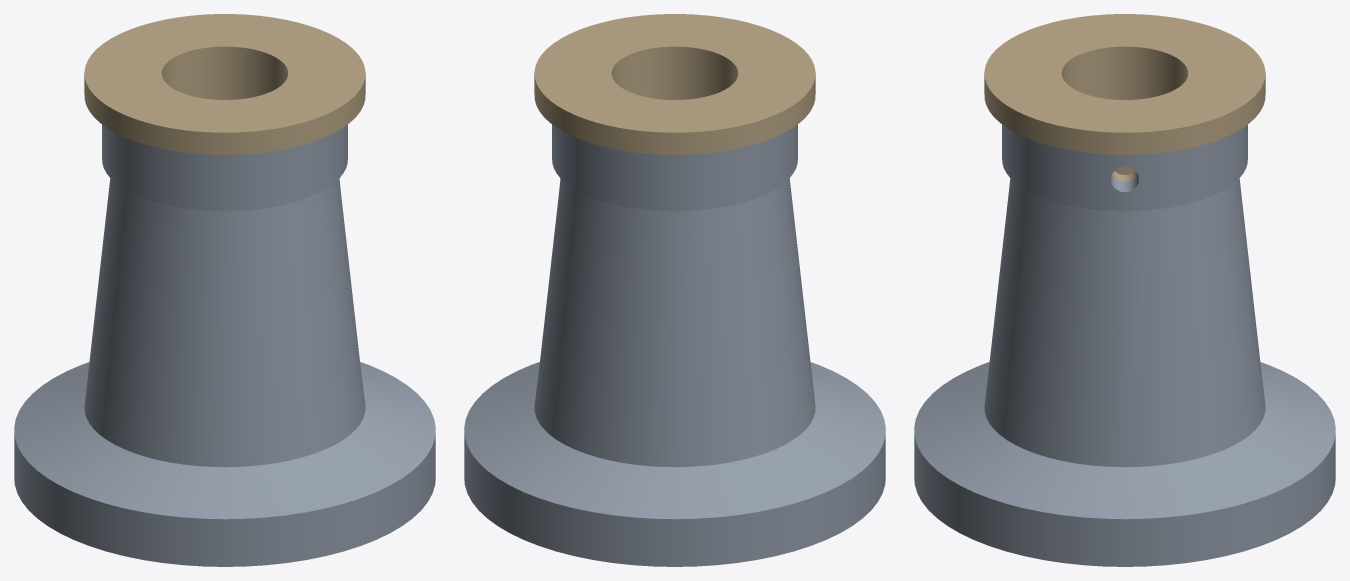
File: step_14.glb
3 renders of one model, left to right at view 1: azimuth 30°, elevation 25°; view 2: azimuth 150°, elevation 25°; view 3: azimuth 270°, elevation 25°, orthographic.
Parts seen in each view (by area): view 1: part__body, part__bronze bush; view 2: part__body, part__bronze bush; view 3: part__body, part__bronze bush.
Part boxes in pixels (left/top/right/bottom): part__body: left=14, top=124, right=435, bottom=566; part__bronze bush: left=84, top=14, right=365, bottom=154; part__body: left=464, top=124, right=885, bottom=566; part__bronze bush: left=534, top=14, right=815, bottom=154; part__body: left=914, top=124, right=1335, bottom=566; part__bronze bush: left=984, top=14, right=1265, bottom=181.
Size of the model in its own units: 120 by 127 by 120.
